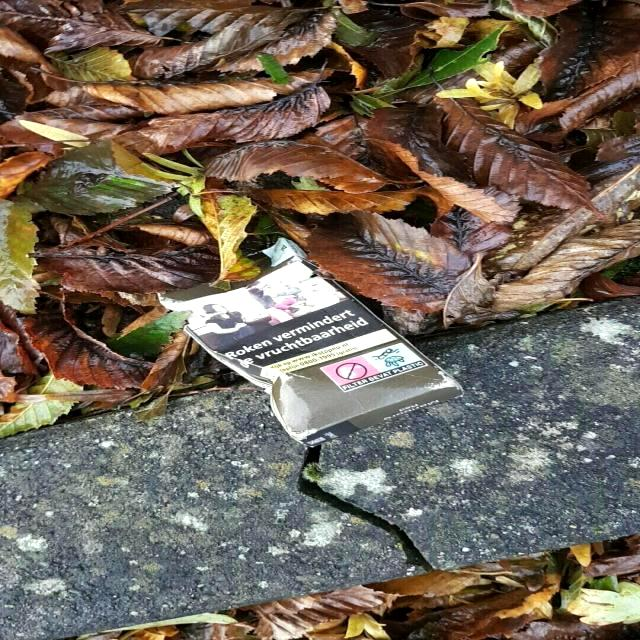Paper: (153, 234, 469, 452)
